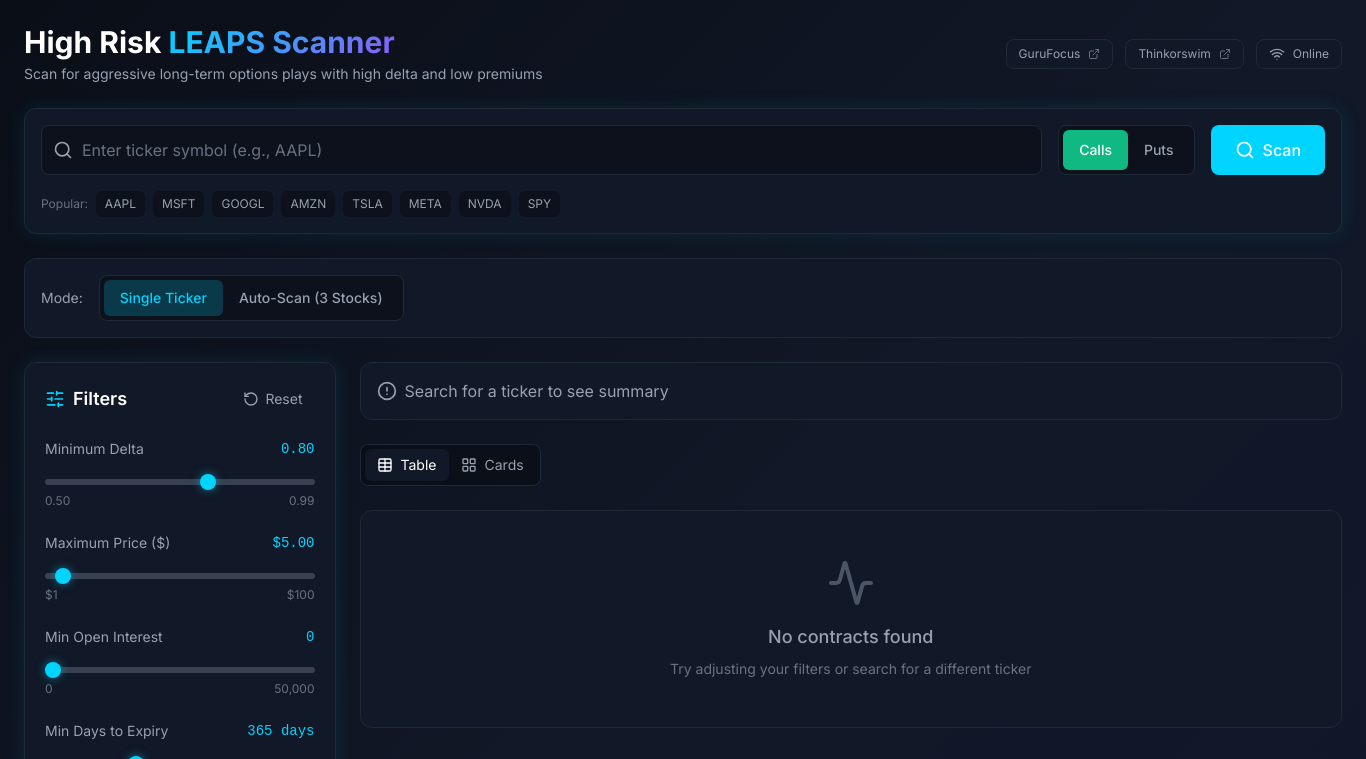
Test: OptionScanner Integration › Filter Interactions › should show filter warning when filters exclude all results
The image size is (1366, 759).
Type "AAPL" into the field with placeholder "Enter ticker symbol (e.g., AAPL)".
click(542, 150); type("AAPL")  # box [41, 125, 1042, 175]
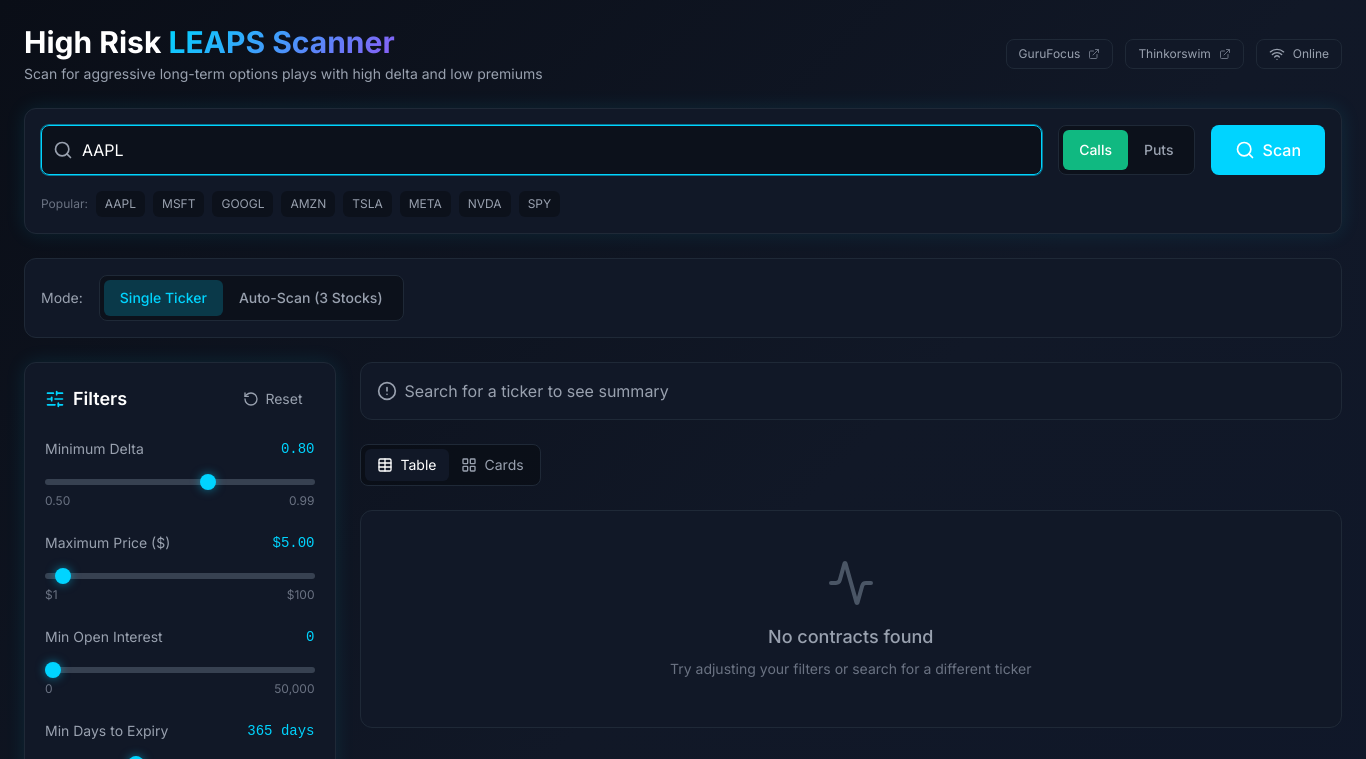
Click the button "Scan".
click(1268, 150)  # box [1211, 125, 1325, 175]
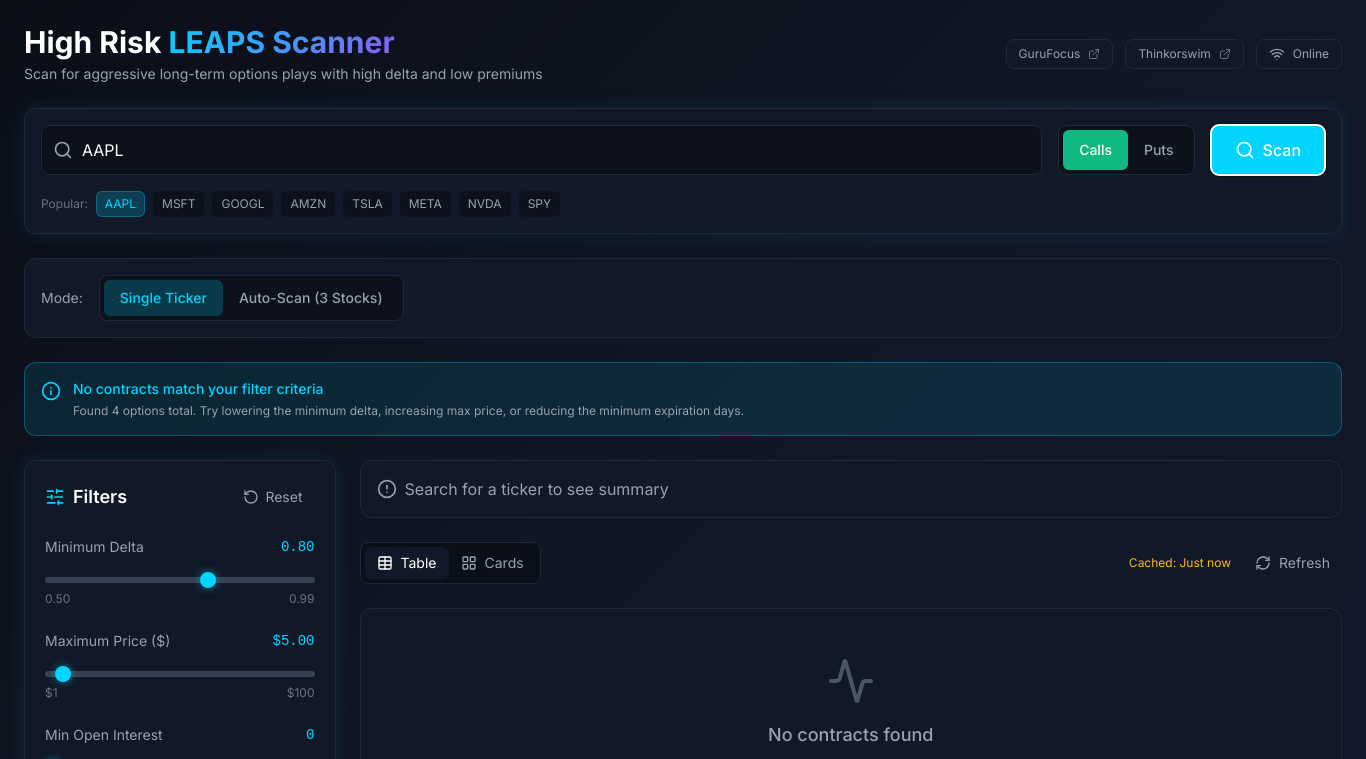
Expected: the text "No contracts match your filter criteria" is shown, [73, 380, 324, 397]
